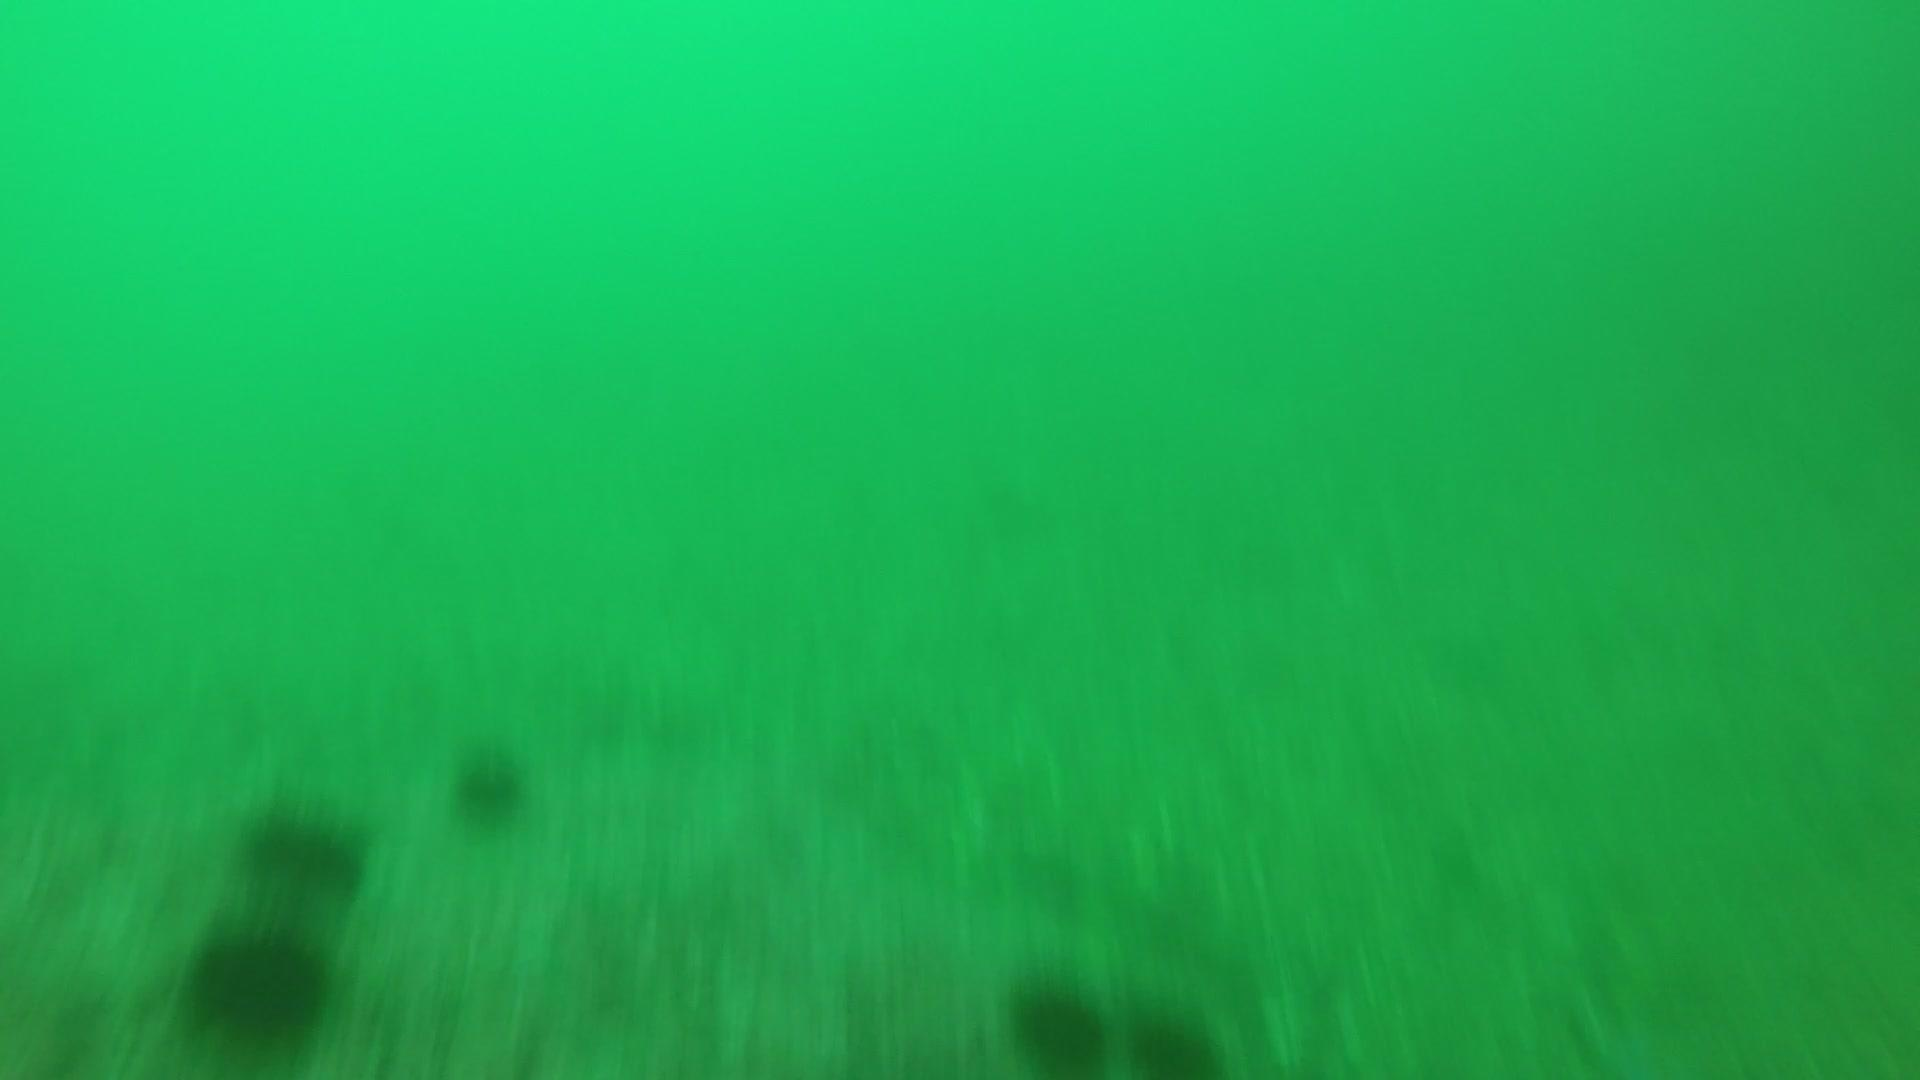echinus: (183, 918, 336, 1044), (235, 793, 373, 893), (1004, 973, 1112, 1071), (444, 736, 533, 829), (1127, 1009, 1225, 1077)
